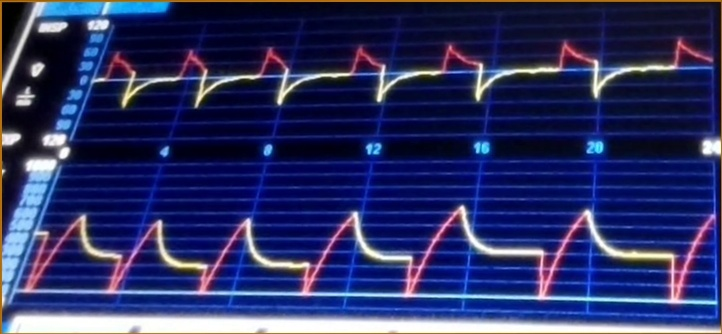Flow: (94, 32, 712, 128)
Leakage Volume: (50, 189, 713, 312)
